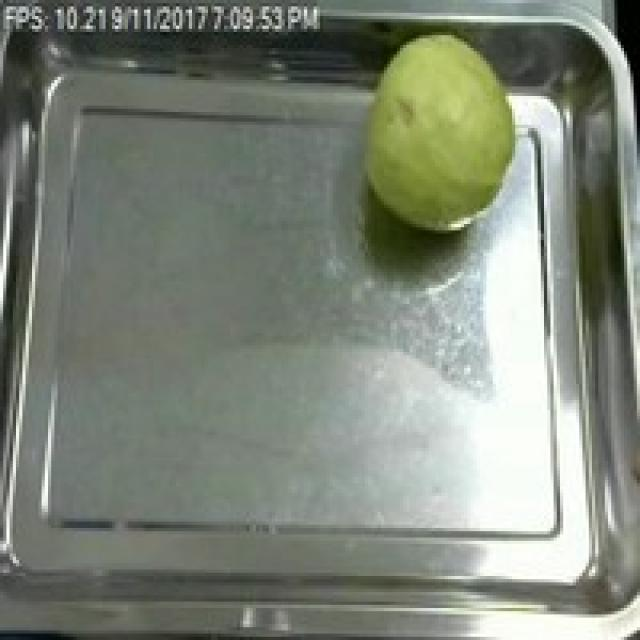Fruit: (349, 19, 531, 243)
